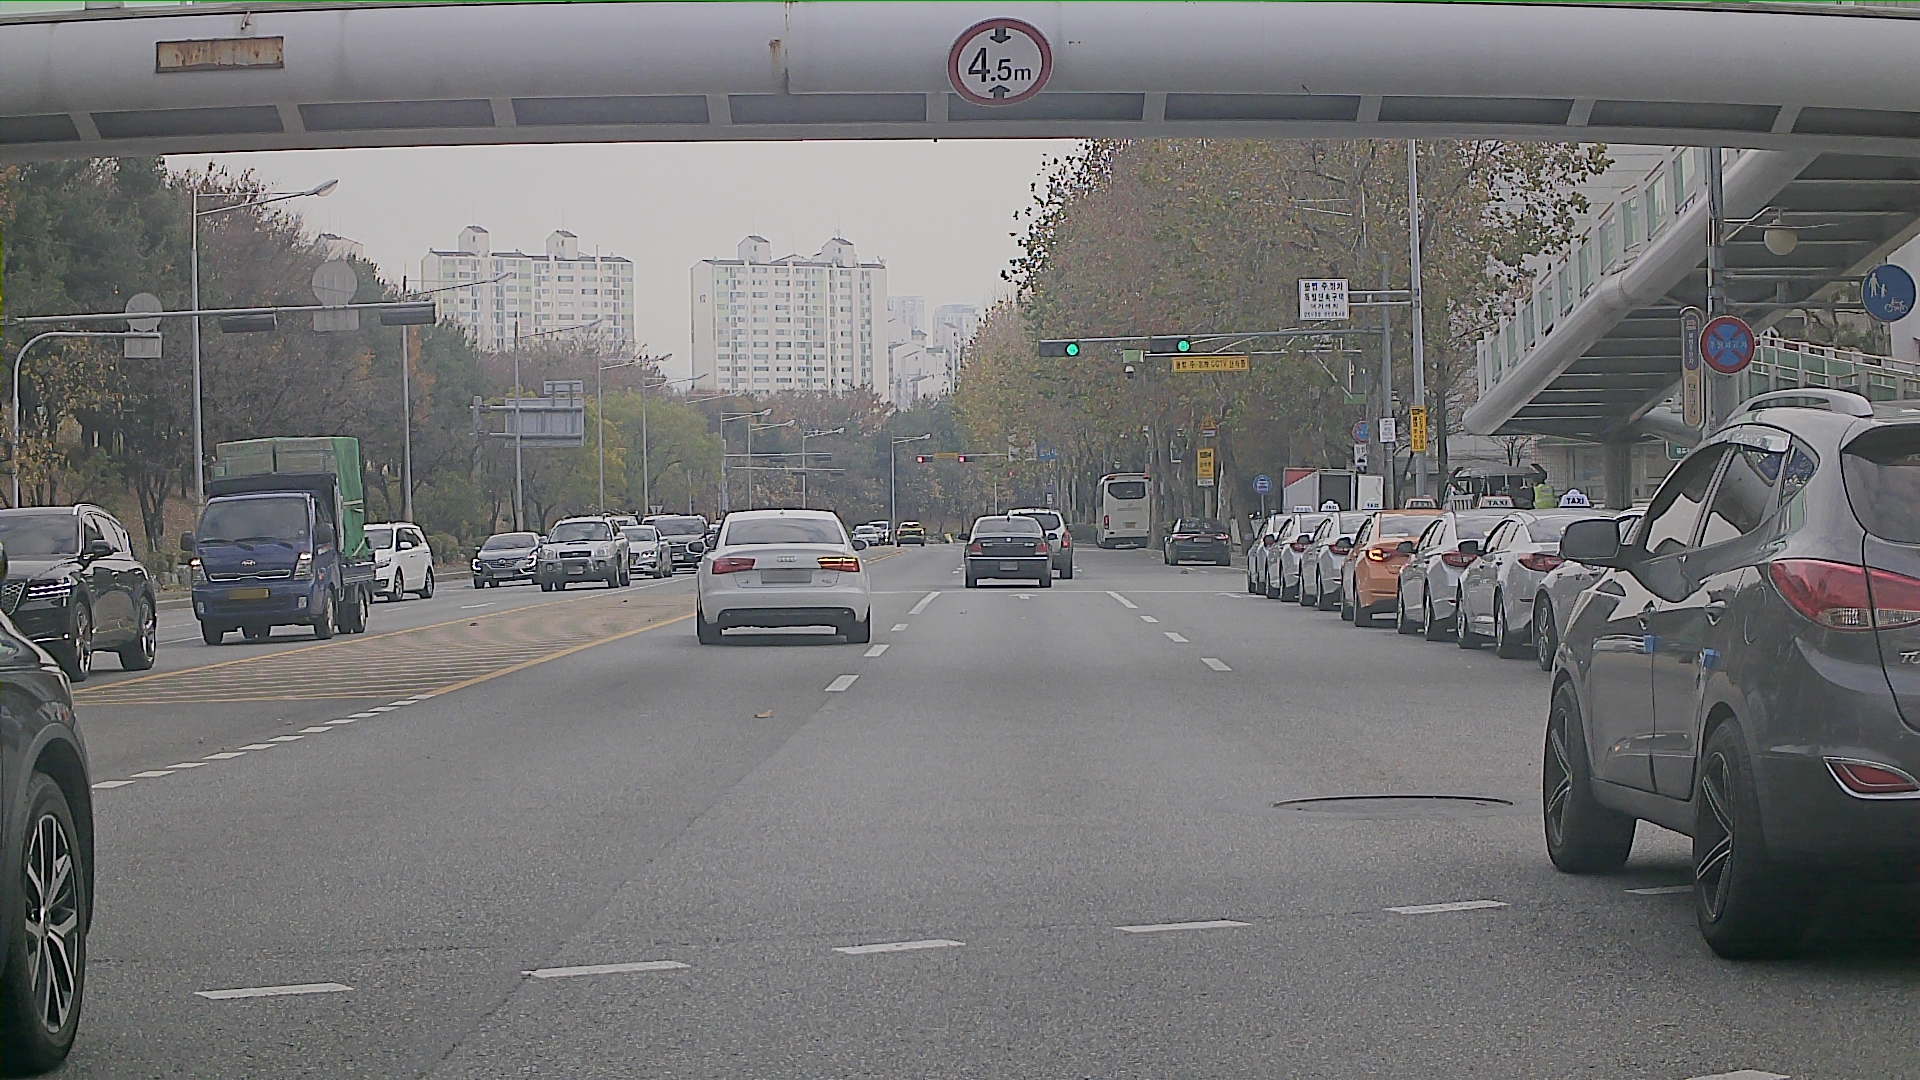trafficLight: (1034, 334, 1196, 363), (913, 451, 984, 465)
trafficSignCircle: (944, 18, 1052, 105)
